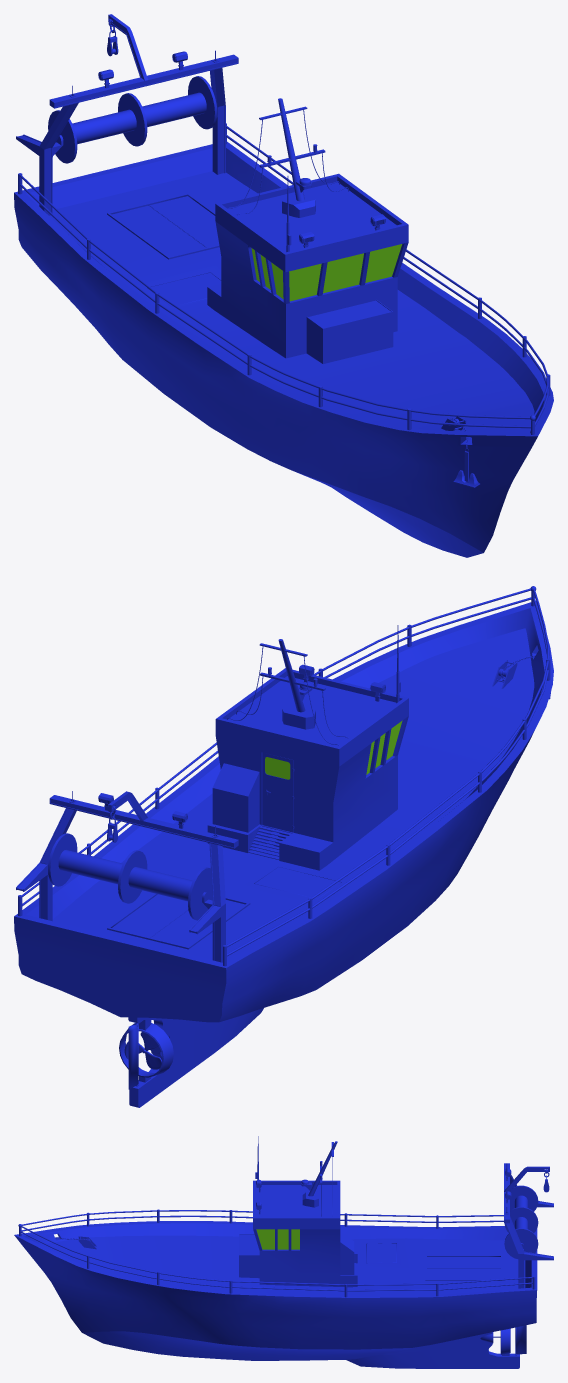
File: FishingTrawlerNew.fbx
3 renders of one model, top to bottom at view 1: azimuth 30°, elevation 25°; view 2: azimuth 150°, elevation 25°; view 3: azimuth 270°, elevation 25°, orthographic. The views are drawn at different scales.
Parts seen in each view (by area): view 1: Cube.001; view 2: Cube.001, Cube.002; view 3: Cube.001.
Part boxes in pixels (box(x1,y1,x2,y2)): Cube.001: box(14, 14, 553, 557); Cube.001: box(14, 586, 553, 1107); Cube.002: box(262, 752, 293, 832); Cube.001: box(14, 1136, 553, 1368).
Size of the model in its own units: 728 by 1051 by 2280.
